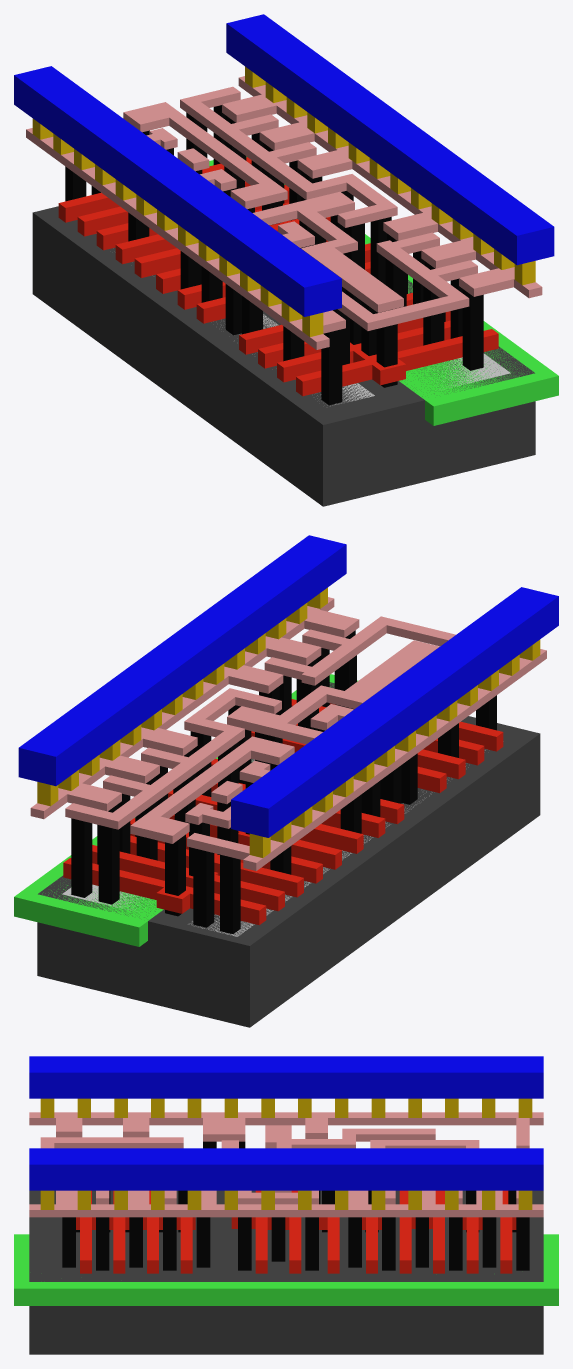
Rendered from sky130_fd_sc_hd__a31o_4.obj.
The picture shows the model from 3 angles, top to bottom: view 1: azimuth 30°, elevation 25°; view 2: azimuth 150°, elevation 25°; view 3: azimuth 270°, elevation 25°; orthographic projection. The views are drawn at different scales.
Parts seen in each view (by area): view 1: subs, metal1, li, licon, poly, mcon, nwell, tap; view 2: subs, metal1, li, licon, poly, mcon, nwell; view 3: metal1, subs, li, nwell, licon, poly, mcon.
Part boxes in pixels (x1,y1,x2,y2): subs: (32,206,535,506); metal1: (14,14,554,316); li: (26,76,542,349); licon: (65,105,483,405); poly: (58,157,498,396); mcon: (32,66,535,336); nwell: (209,156,558,425); tap: (433,353,510,389); subs: (37,682,540,1027); metal1: (18,535,558,837); li: (30,597,546,870); licon: (71,630,496,933); poly: (63,699,503,925); mcon: (37,587,540,857); nwell: (14,674,358,946); metal1: (29,1056,543,1190); subs: (29,1190,543,1354); li: (29,1112,543,1217); nwell: (14,1234,558,1305); licon: (62,1141,529,1270); poly: (76,1190,516,1273); mcon: (40,1098,532,1209).
Size of the model in its own units: 3.2 by 2.74 by 6.82.
